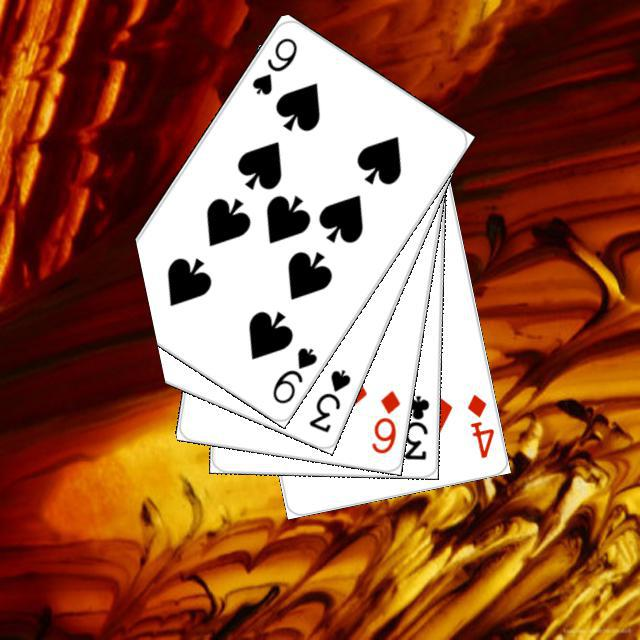3c: (398, 390, 431, 461)
3s: (304, 364, 353, 435)
4d: (462, 389, 496, 460)
6d: (366, 385, 402, 456)
9s: (247, 32, 299, 97), (267, 342, 319, 406)
